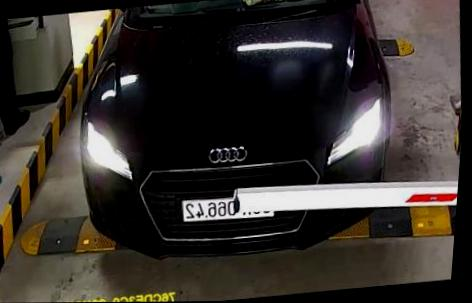License_Plate: (172, 181, 271, 234)
